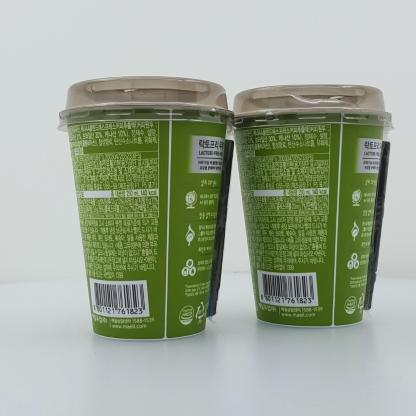-------------------: (57, 76, 236, 340), (226, 83, 395, 326)
